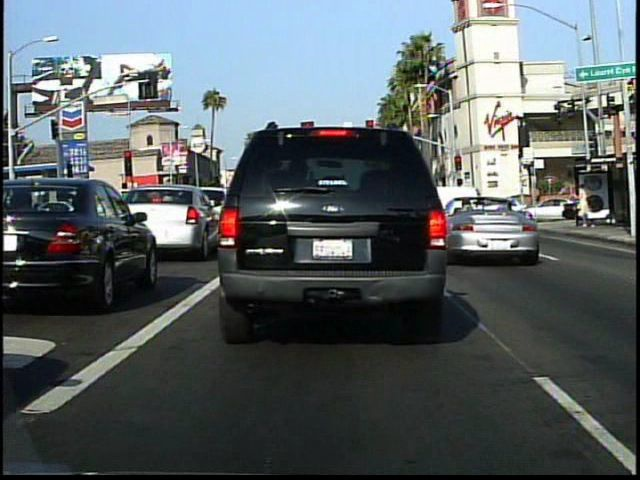person: (570, 180, 594, 232)
